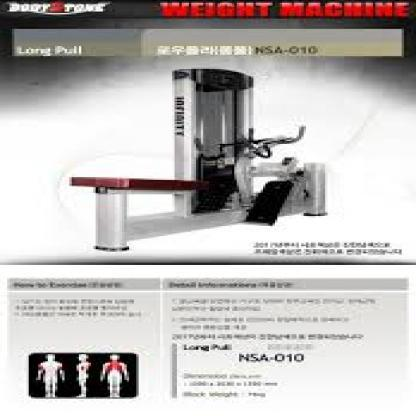Seated Cable Rows: (62, 64, 340, 252)
